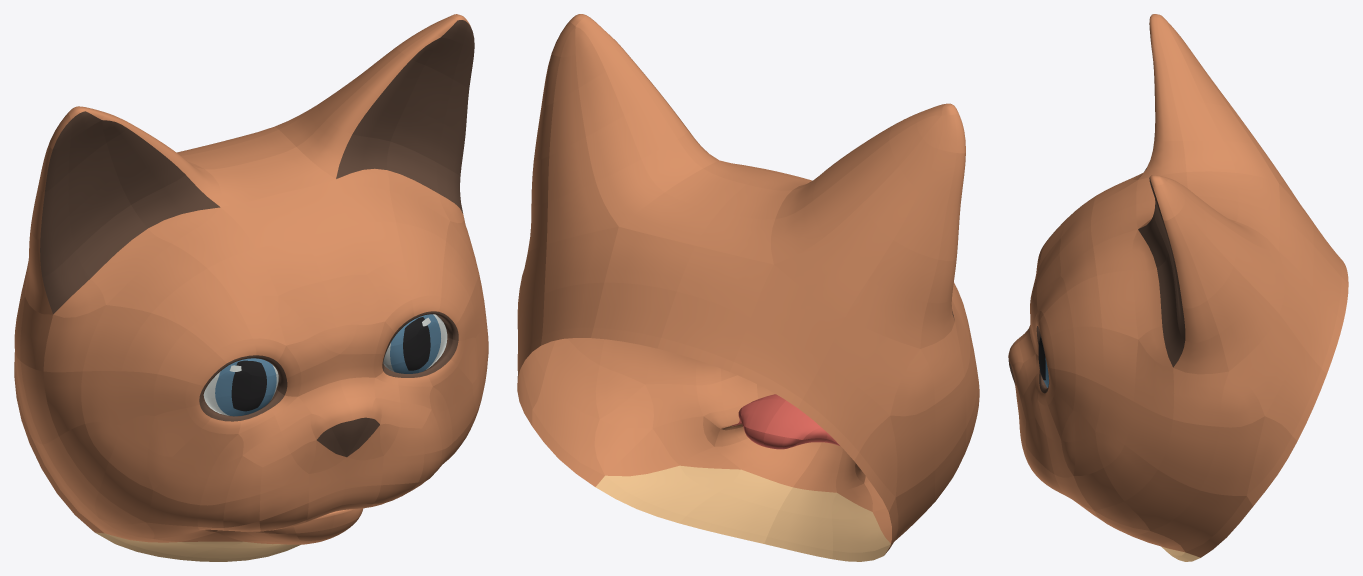
Rendered from HuaTan_head.fbx.
The picture shows the model from 3 angles, left to right: view 1: azimuth 30°, elevation 25°; view 2: azimuth 150°, elevation 25°; view 3: azimuth 270°, elevation 25°; orthographic projection. The views are drawn at different scales.
Parts seen in each view (by area): view 1: node_id4; view 2: node_id4; view 3: node_id4.
Boxes of the visible parts, box(x1,y1,x2,y2) form: node_id4: box(14, 14, 488, 561); node_id4: box(517, 14, 979, 561); node_id4: box(1008, 14, 1348, 561).
Bounding box in the file's own units: 0.4665 × 0.512 × 0.3634.
Materials: 1 (1 with a texture image).
